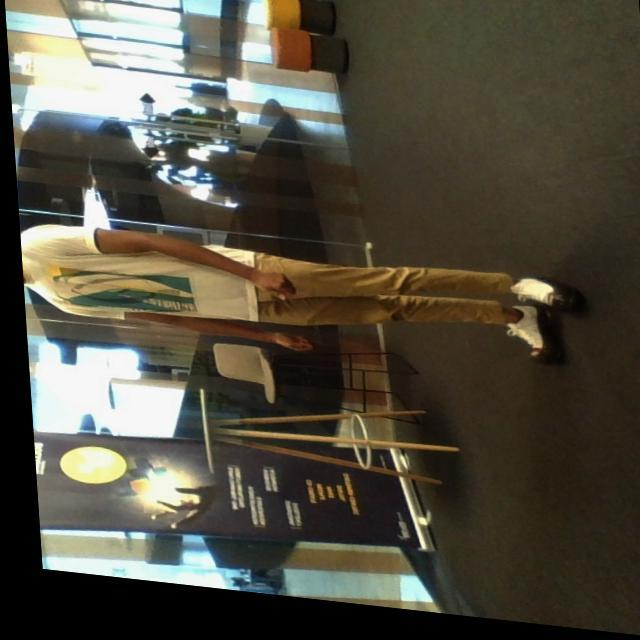shoes: (509, 265, 587, 313), (506, 310, 570, 364)
